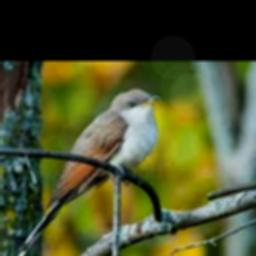Cuckoo: (13, 88, 160, 256)
